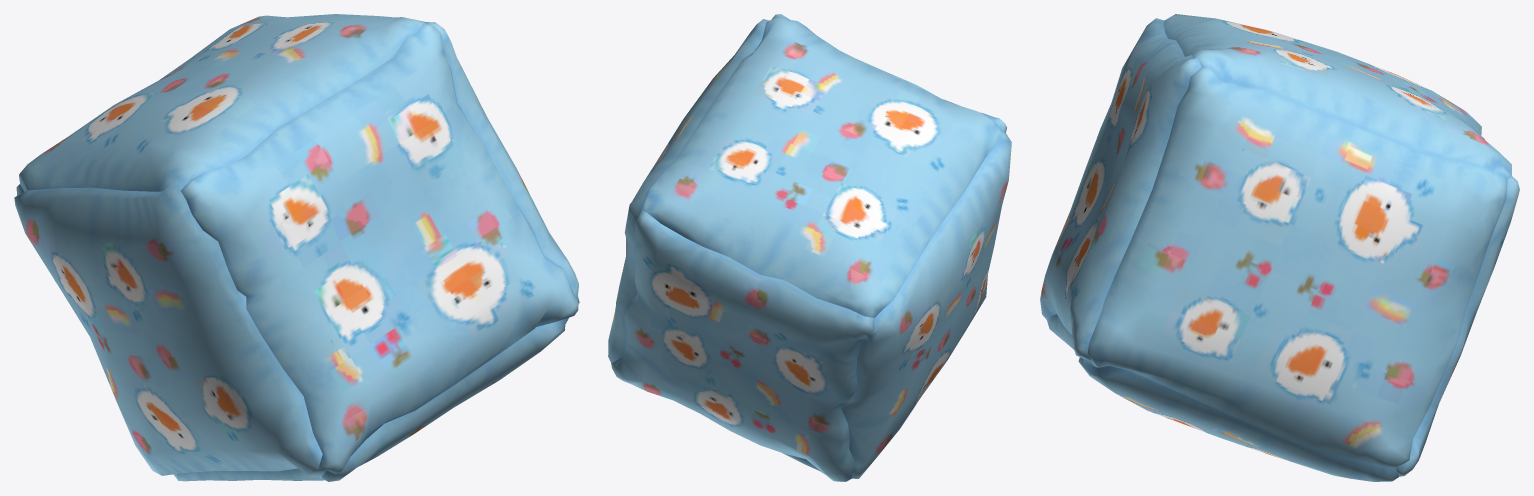
File: ref_gtsandbag.fbx
3 views of the same model, side by side, from view 1: azimuth 30°, elevation 25°; view 2: azimuth 150°, elevation 25°; view 3: azimuth 270°, elevation 25° (orthographic). The views are drawn at different scales.
Visible parts, largest first — view 1: ref_gtsandbag; view 2: ref_gtsandbag; view 3: ref_gtsandbag.
Part boxes in pixels (box(x1,y1,x2,y2)): ref_gtsandbag: box(14, 14, 579, 481); ref_gtsandbag: box(608, 14, 1011, 481); ref_gtsandbag: box(1040, 14, 1519, 481).
Bounding box in the file's own units: 86.6 × 100 × 94.99.
1 material, 1 textured.
